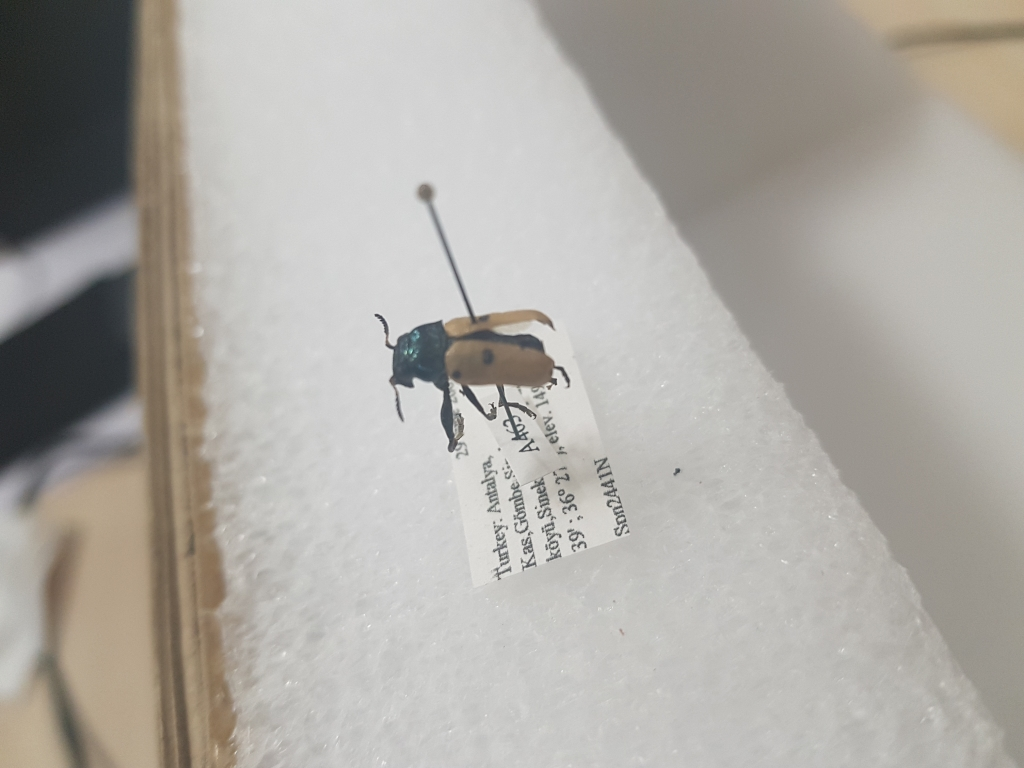Labidostomis_maculipennis: (369, 305, 576, 455)
